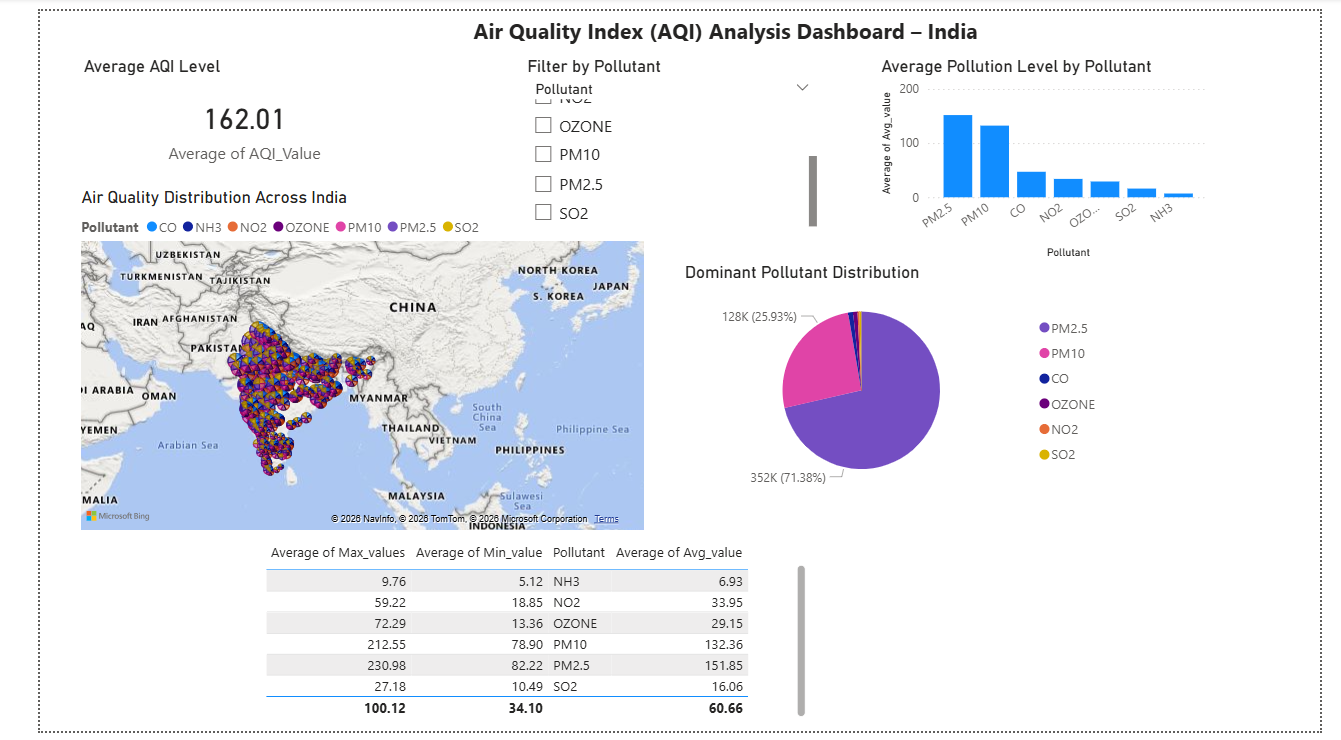

The dashboard page shown, as its layout file describes it:
{"tool":"powerbi","page":{"name":"Page 1","canvas":[1280,720],"ordinal":0},"visuals":[{"type":"textbox","box":[10,0,1197.8,44.4],"z":0},{"type":"card","title":"Average AQI Level","fields":{"Values":["Avg(Country.AQI_Value)"]},"box":[38.2,44.5,331.8,125.5],"z":1000},{"type":"map","title":"Air Quality Distribution Across India","fields":{"Y":["Country.latitude"],"X":["Country.longitude"],"Size":["Avg(Country.AQI_Value)"],"Series":["Country.Pollutant"]},"box":[36.4,176.4,572.7,348.2],"z":2000},{"type":"pieChart","title":"Dominant Pollutant Distribution","fields":{"Category":["Country.Dominant_Pollutant"],"Y":["Sum(Country.AQI_Value)"]},"box":[640,251.8,430,237.3],"z":3000},{"type":"slicer","title":"Filter by Pollutant","fields":{"Values":["Country.Pollutant"]},"box":[482.7,45.5,299.1,175.5],"z":4000},{"type":"clusteredColumnChart","title":"Average Pollution Level by Pollutant","fields":{"Category":["Country.Pollutant"],"Y":["Avg(Country.Avg_value)"]},"box":[836.4,44.5,337.3,207.3],"z":5000},{"type":"tableEx","fields":{"Values":["Avg(Country.Max_values)","Avg(Country.Min_value)","Country.Pollutant","Avg(Country.Avg_value)"]},"box":[220,524.5,550.9,186.4],"z":5001}]}

Visuals, with their boxes in screenshot pixels (x1, y1, x2, y2), scaled from the page's 1280x720 canvas onto the 1341x740 screenshot:
textbox: [10, 0, 1265, 46]
"Average AQI Level" card: [40, 46, 388, 175]
"Air Quality Distribution Across India" map: [38, 181, 638, 539]
"Dominant Pollutant Distribution" pieChart: [670, 259, 1121, 503]
"Filter by Pollutant" slicer: [506, 47, 819, 227]
"Average Pollution Level by Pollutant" clusteredColumnChart: [876, 46, 1230, 259]
tableEx - Avg(Country.Max_values) x Avg(Country.Min_value): [230, 539, 808, 731]
